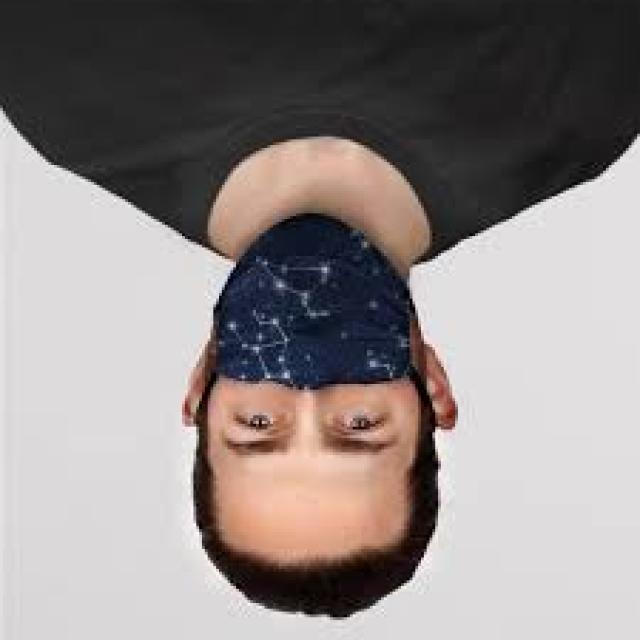Mask: (177, 227, 433, 406)
